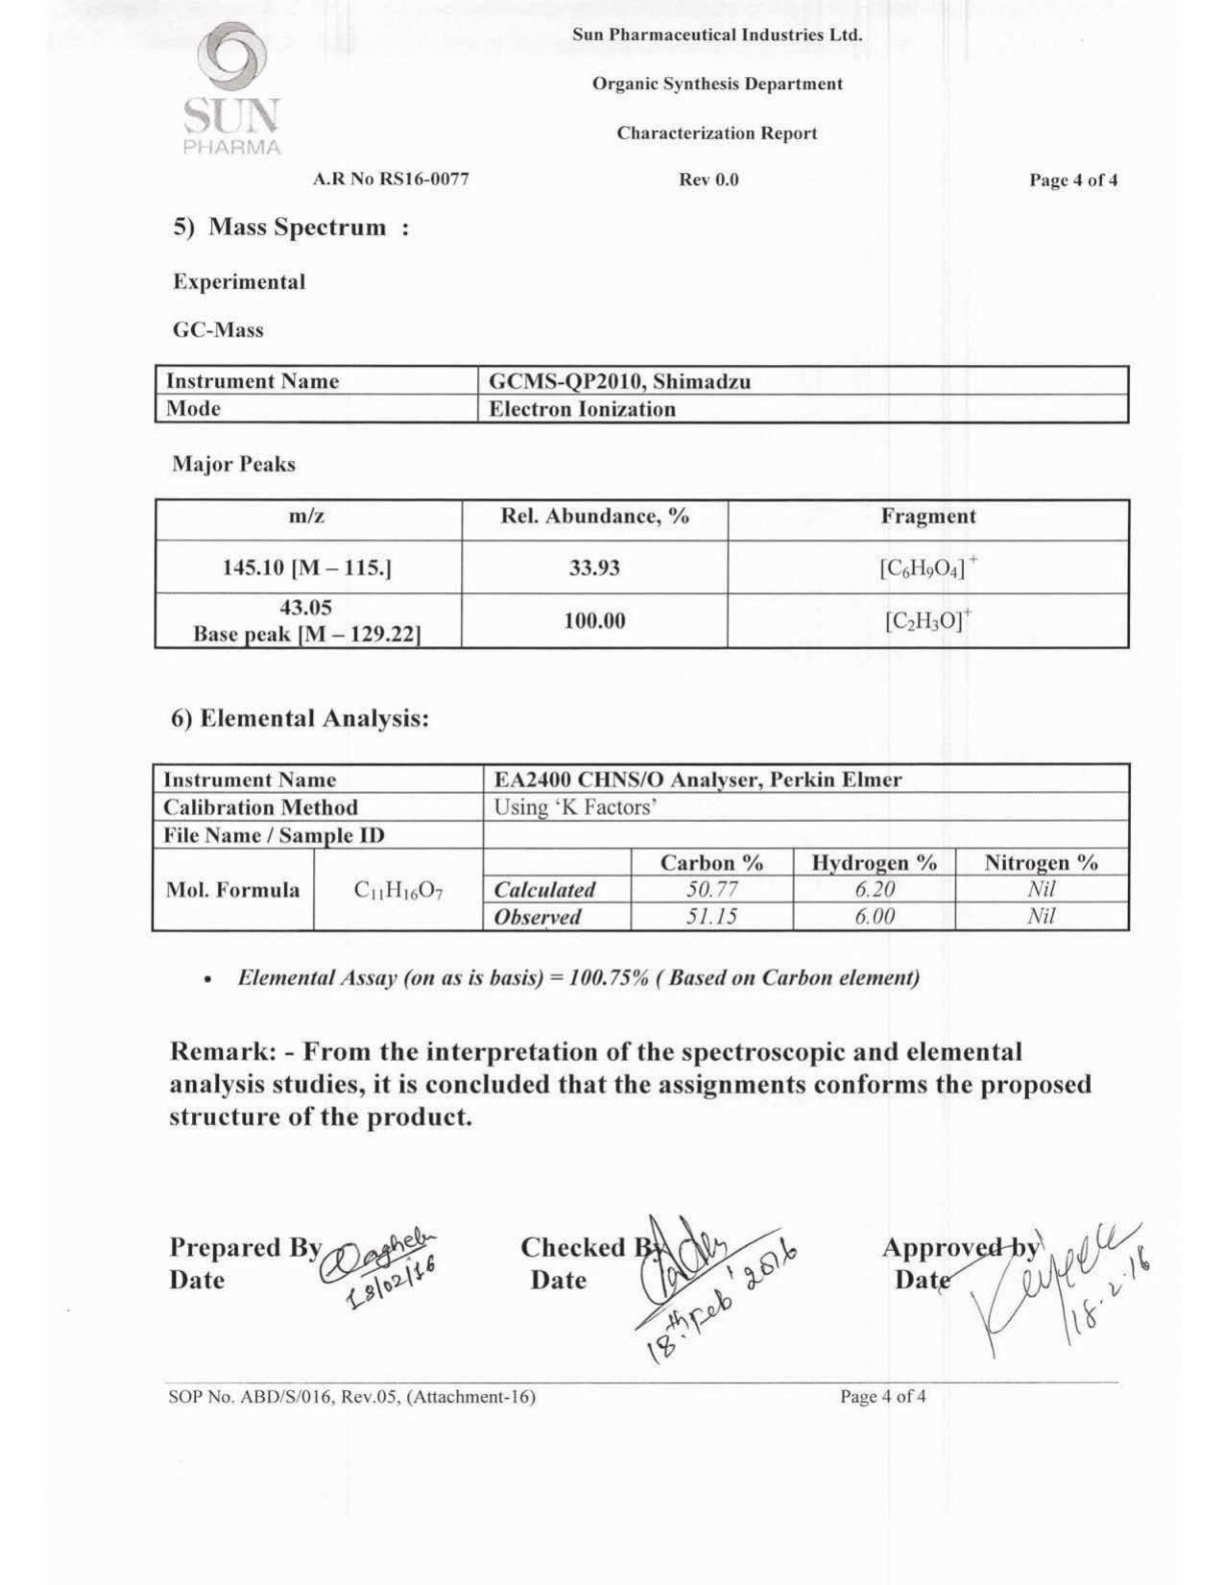full_lined: (152, 496, 1131, 650), (152, 363, 1131, 425)
merged_cells: (149, 762, 1131, 935)
